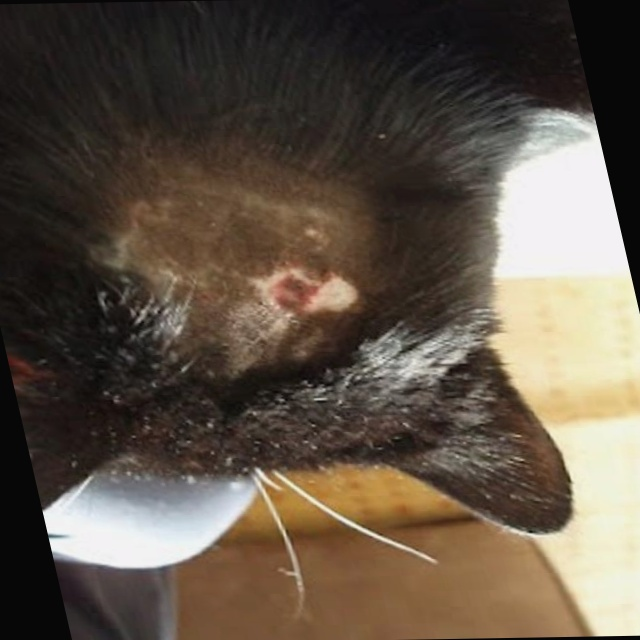ringworm: (254, 261, 374, 326)
